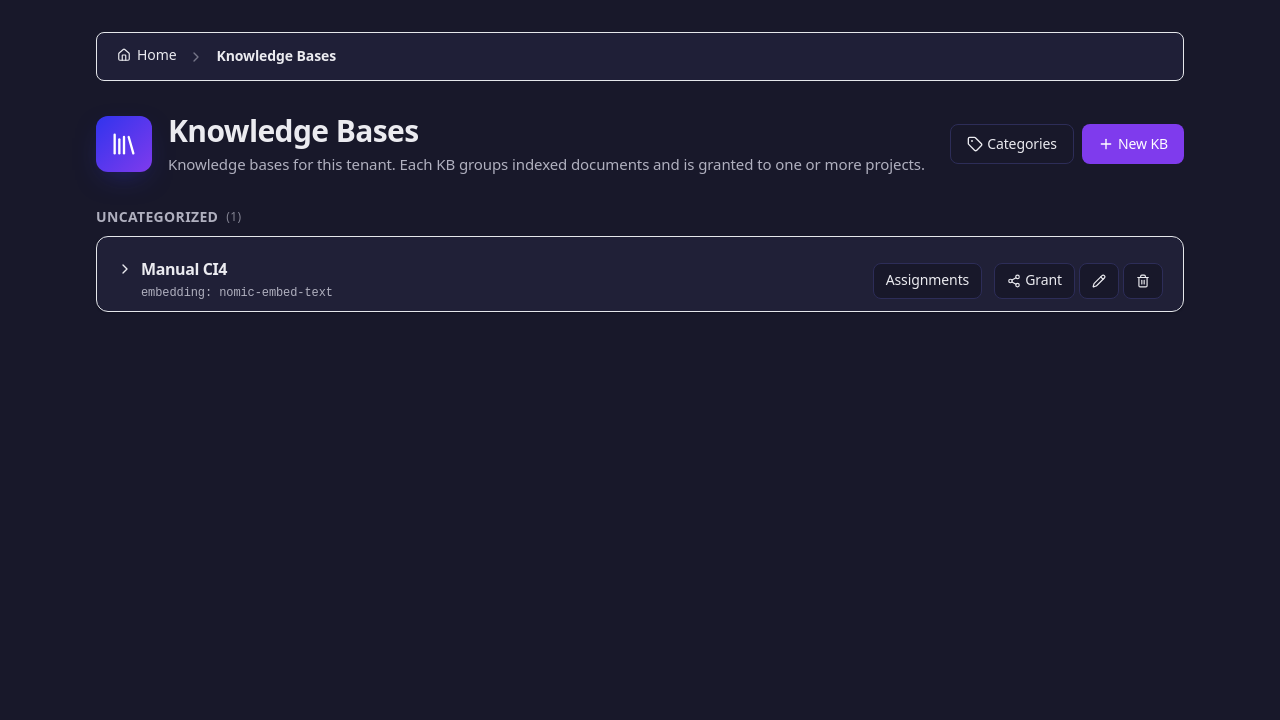
Test case: knowledge-bases en inglés › traduce el diálogo de grant a proyecto
The image size is (1280, 720).
Click the button with test id "kb-grant-kb-1". click: coordinates (1035, 281)
box: [994, 263, 1075, 299]
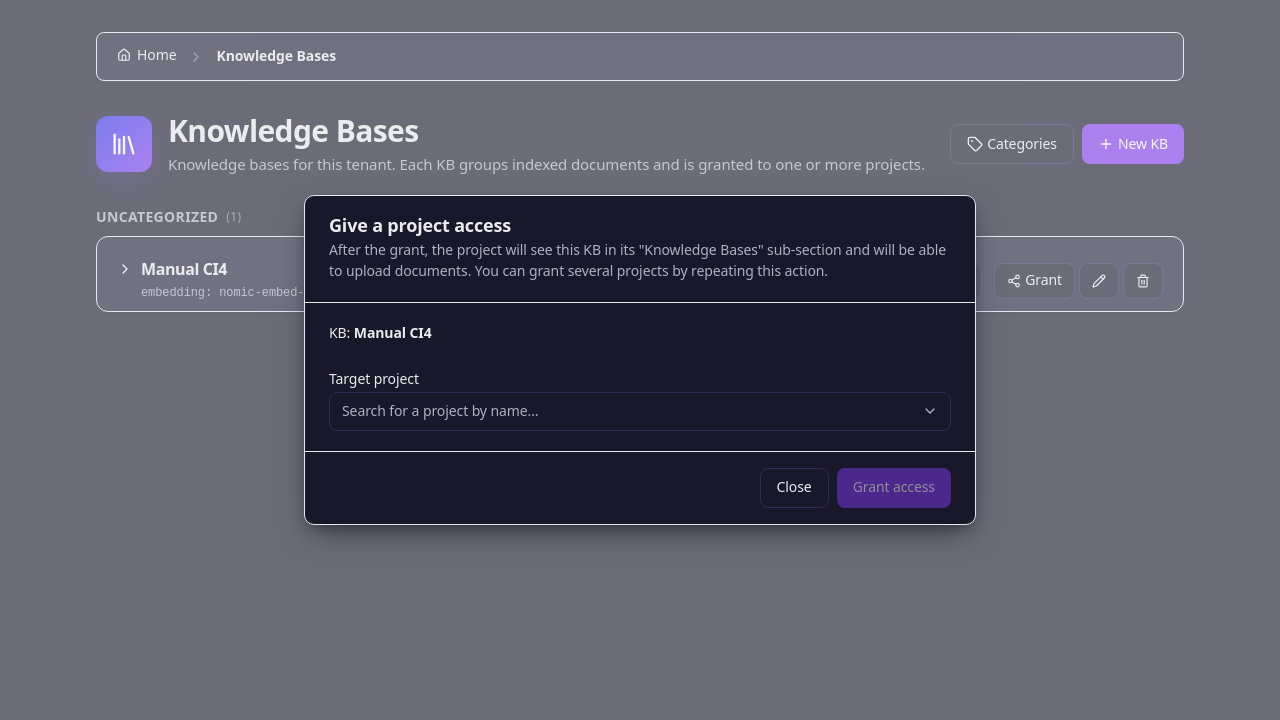
expect the element with test id "kb-grant-project" is shown: met, box [329, 392, 951, 431]
expect the heading "Give a project access" is shown: met, box [329, 213, 511, 237]
expect the text "Target project" is shown: met, box [329, 369, 419, 388]
